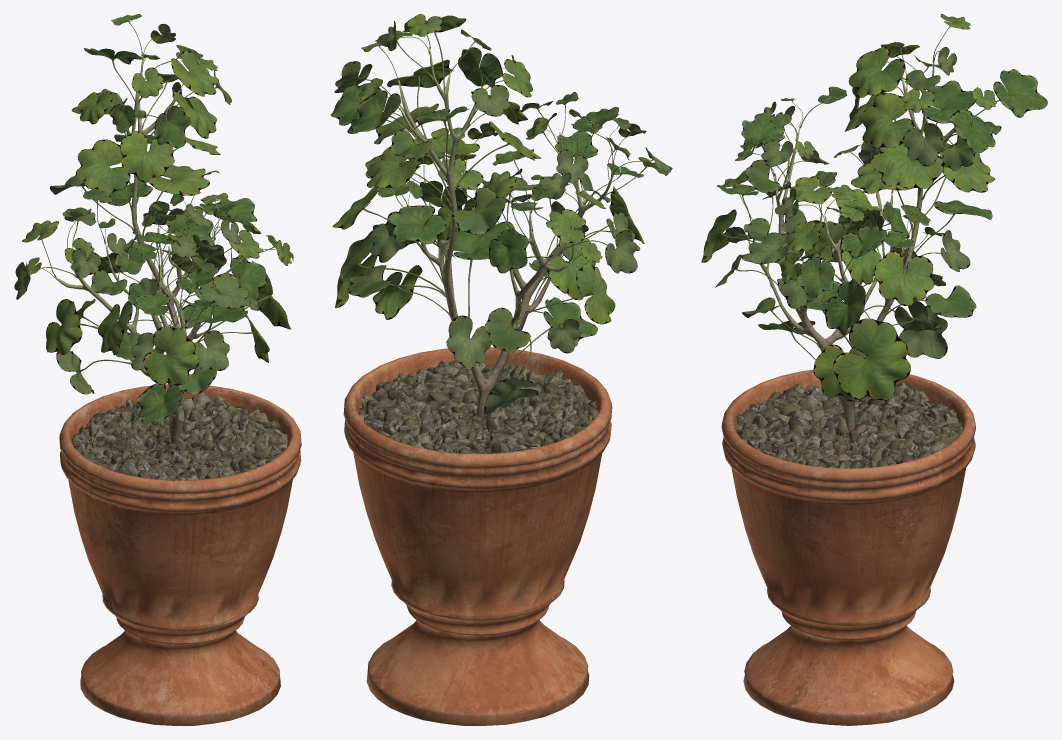
File: potted_plant_01.glb
3 views of the same model, side by side, from view 1: azimuth 30°, elevation 25°; view 2: azimuth 150°, elevation 25°; view 3: azimuth 270°, elevation 25° (orthographic). The views are drawn at different scales.
Visible parts, largest first — view 1: potted_plant_01_stem, potted_plant_01_leaves; view 2: potted_plant_01_stem, potted_plant_01_leaves; view 3: potted_plant_01_stem, potted_plant_01_leaves.
Boxes of the visible parts, x1=… form: potted_plant_01_stem: x1=54, y1=54, x2=301, y2=725; potted_plant_01_leaves: x1=14, y1=14, x2=293, y2=424; potted_plant_01_stem: x1=343, y1=48, x2=613, y2=725; potted_plant_01_leaves: x1=331, y1=14, x2=672, y2=414; potted_plant_01_stem: x1=721, y1=55, x2=975, y2=725; potted_plant_01_leaves: x1=701, y1=14, x2=1047, y2=401.
Bounding box in the file's own units: 0.5874 × 1.34 × 0.6336.
Materials: 2 (2 with a texture image).
